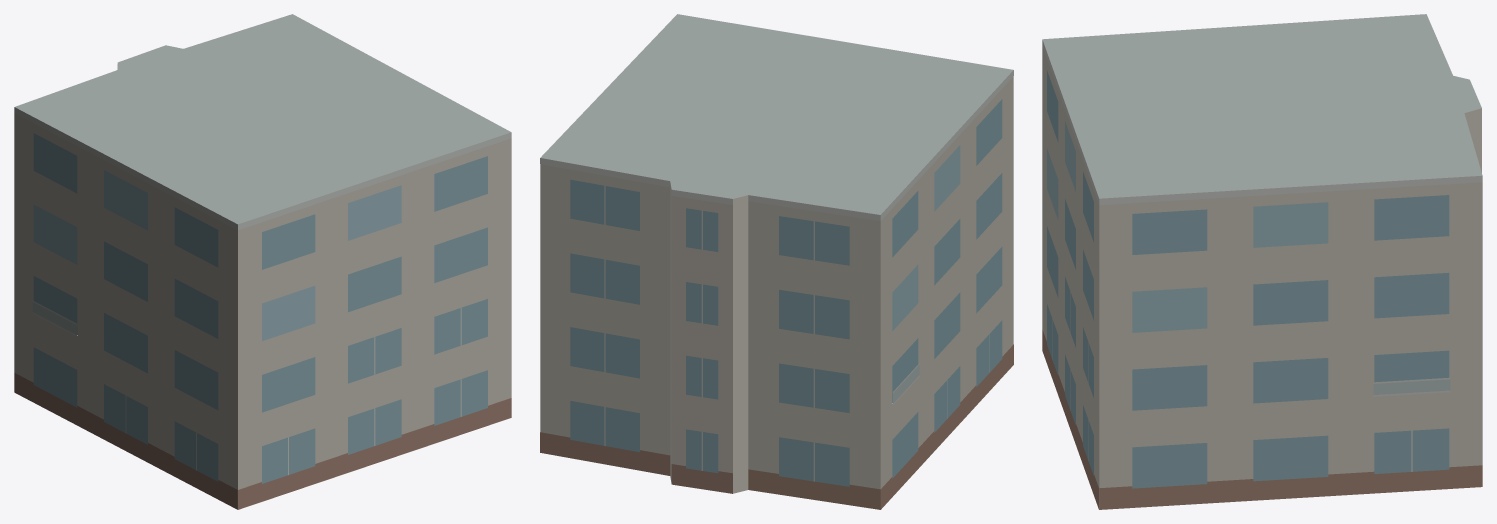
The model's file is survey-upis-32699438.glb.
The picture shows the model from 3 angles, left to right: view 1: azimuth 30°, elevation 25°; view 2: azimuth 150°, elevation 25°; view 3: azimuth 270°, elevation 25°; orthographic projection. The views are drawn at different scales.
Parts seen in each view (by area): view 1: survey-upis-32699438.tmp; view 2: survey-upis-32699438.tmp; view 3: survey-upis-32699438.tmp.
Boxes of the visible parts, x1=… form: survey-upis-32699438.tmp: x1=14, y1=14, x2=511, y2=509; survey-upis-32699438.tmp: x1=540, y1=14, x2=1013, y2=509; survey-upis-32699438.tmp: x1=1042, y1=14, x2=1482, y2=509.
Bounding box in the file's own units: 14.9 × 11.7 × 15.01.
